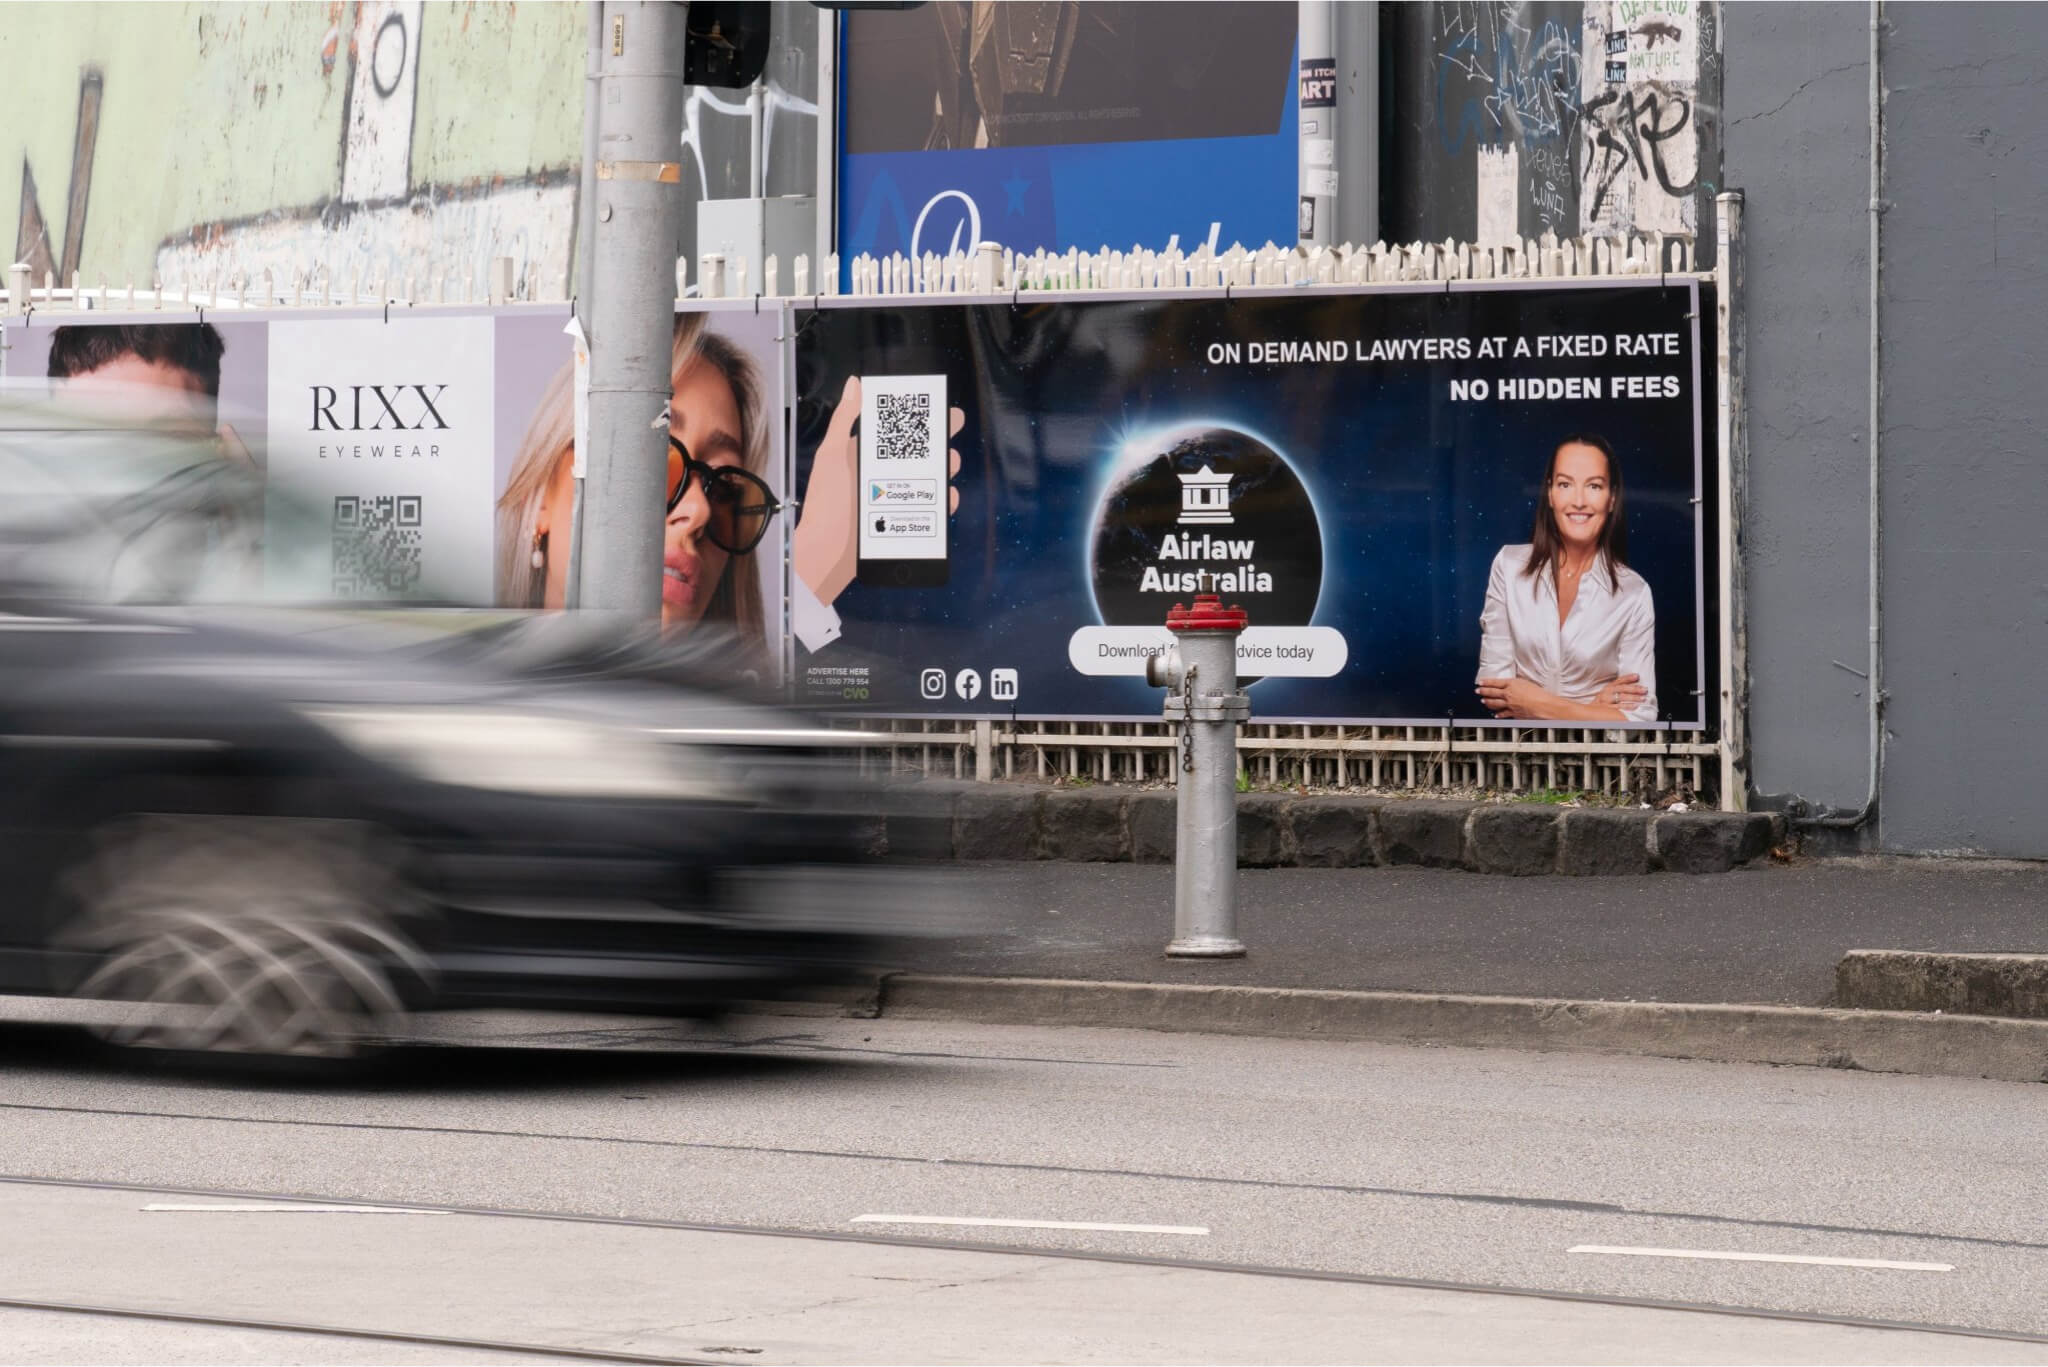poster: (782, 282, 1711, 757), (5, 299, 576, 609), (517, 310, 807, 697)
